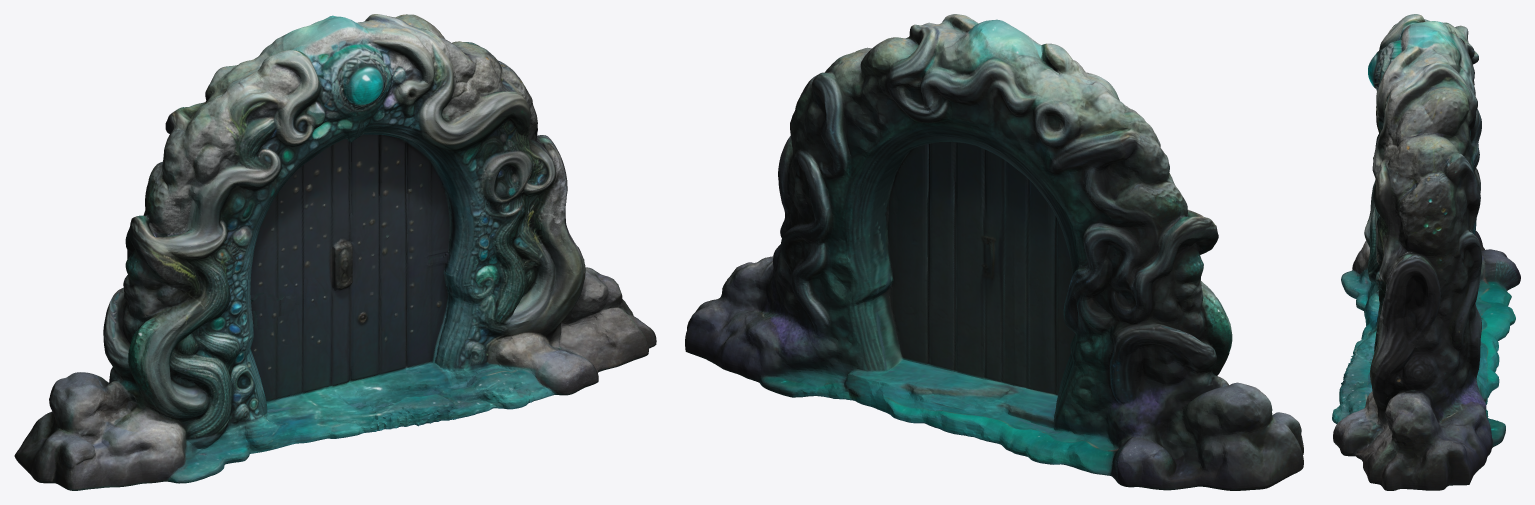
The model's file is A_dark_and_mystical_p_0613155210_texture.fbx.
3 views of the same model, side by side, from view 1: azimuth 30°, elevation 25°; view 2: azimuth 150°, elevation 25°; view 3: azimuth 270°, elevation 25° (orthographic). The views are drawn at different scales.
Visible parts, largest first — view 1: temp; view 2: temp; view 3: temp.
Boxes of the visible parts, box(x1,y1,x2,y2) form: temp: box(14, 14, 656, 490); temp: box(685, 14, 1303, 490); temp: box(1332, 14, 1520, 490).
Size of the model in its own units: 200 by 121 by 61.53.
1 material, 1 textured.
